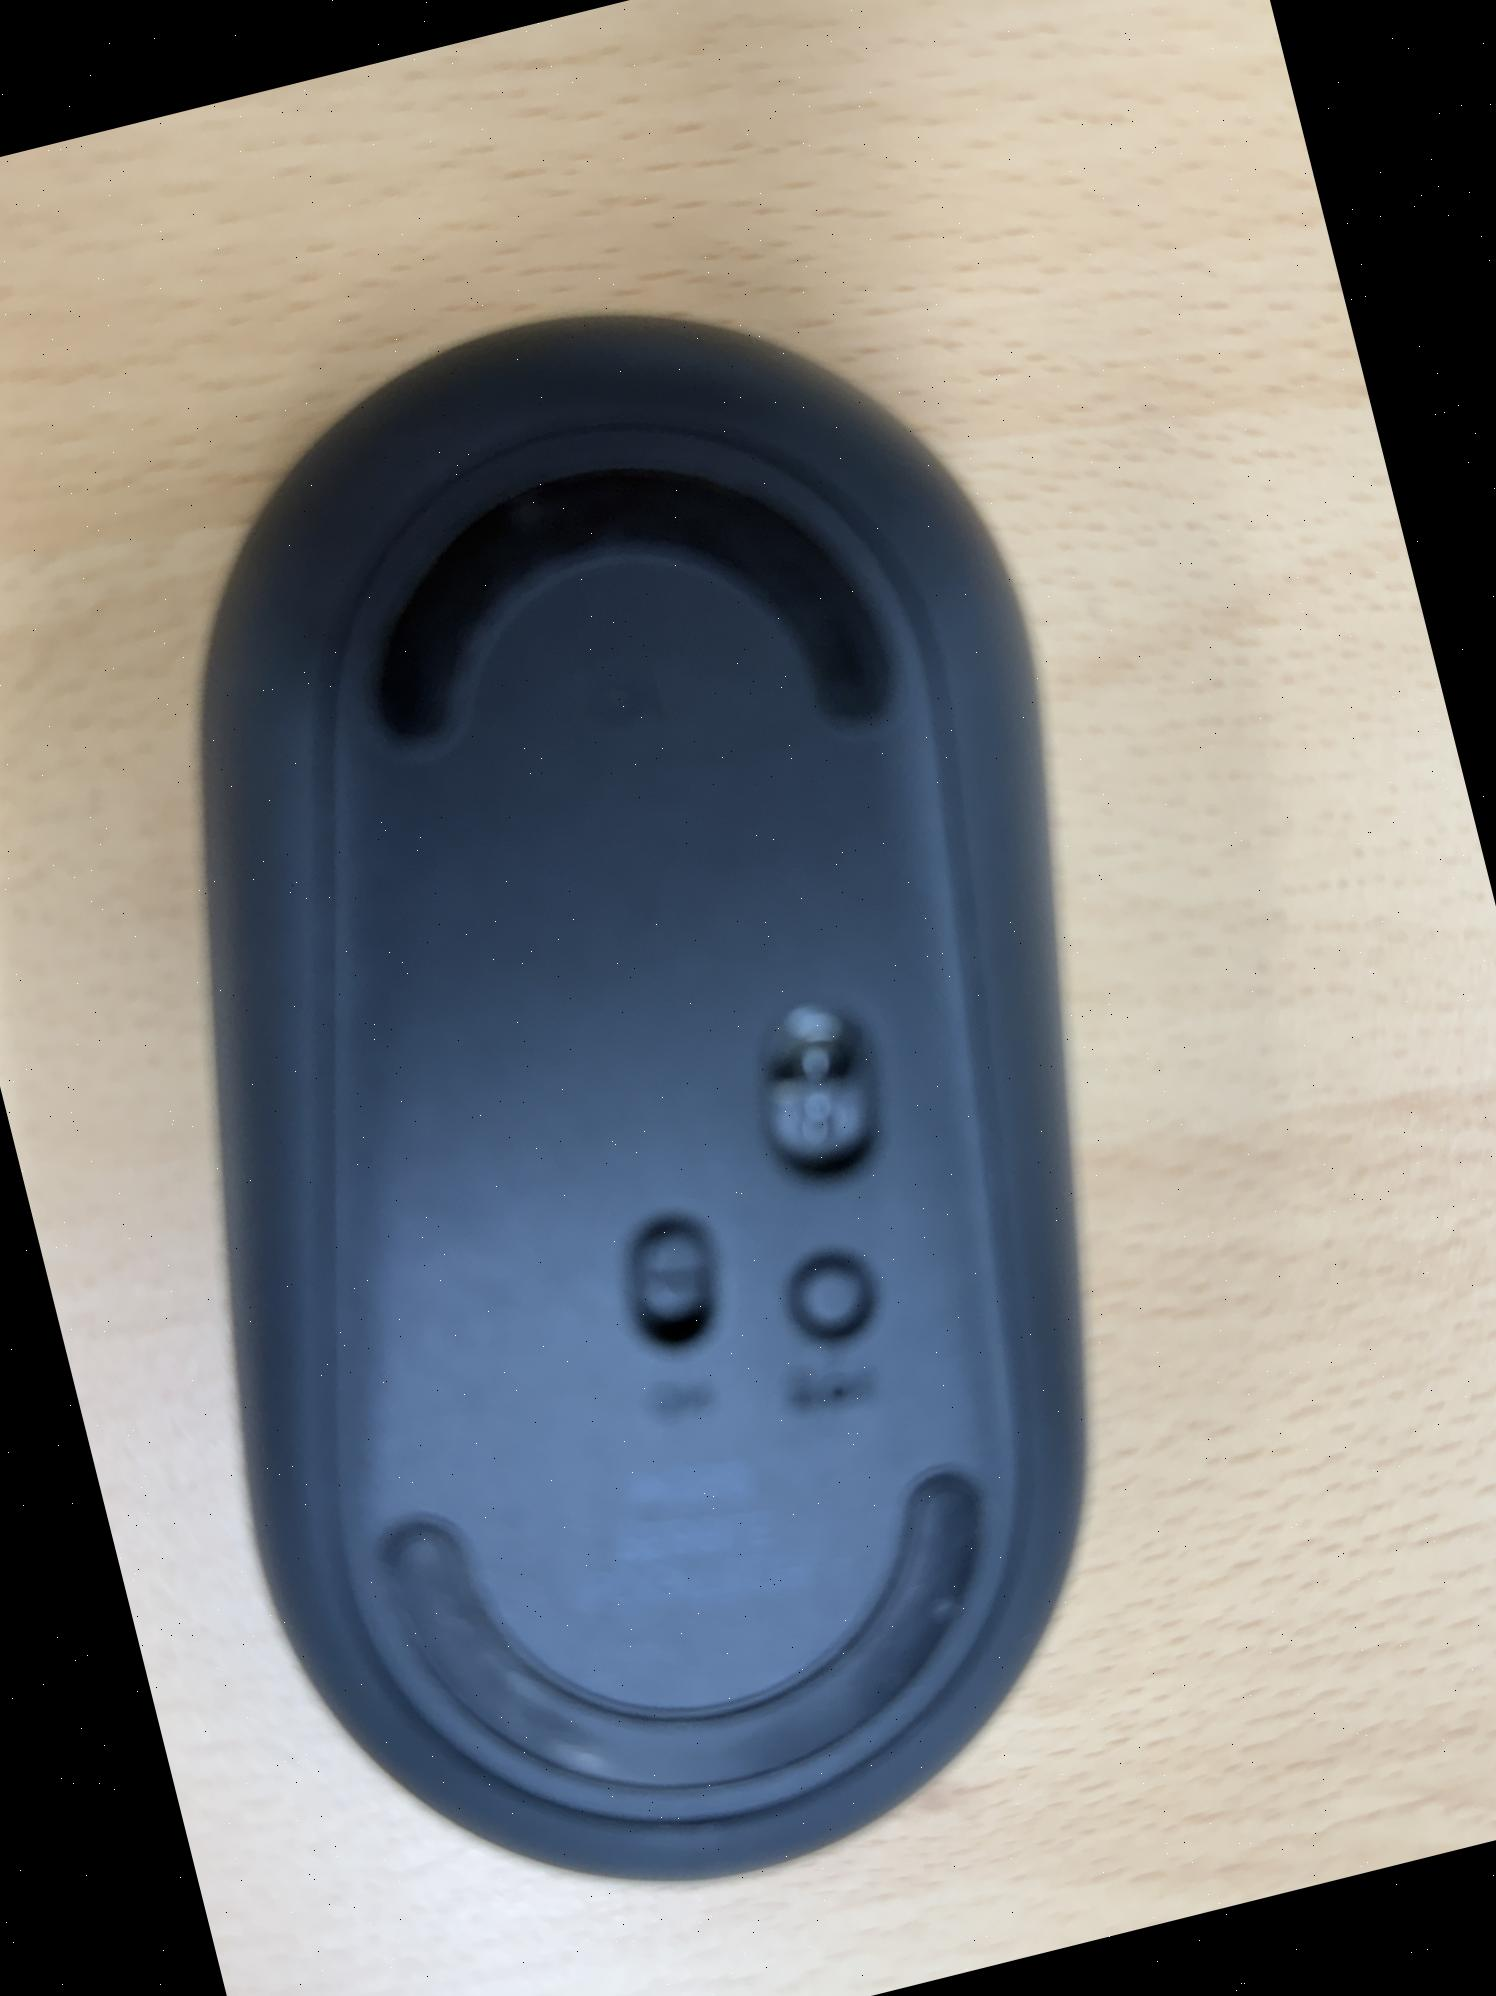back: (0, 214, 1318, 1980)
